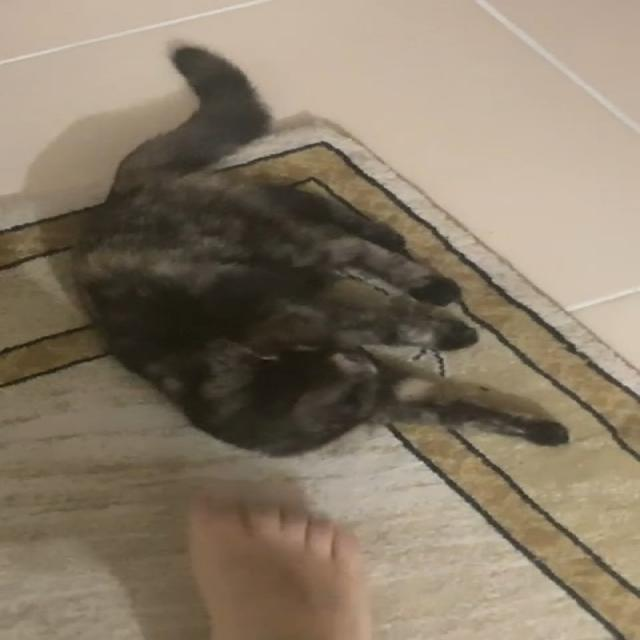authorized: (64, 40, 571, 459)
